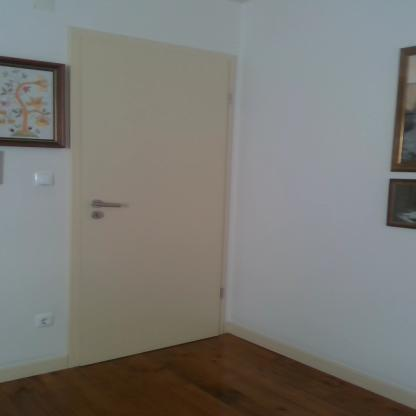closed: (64, 33, 242, 365)
